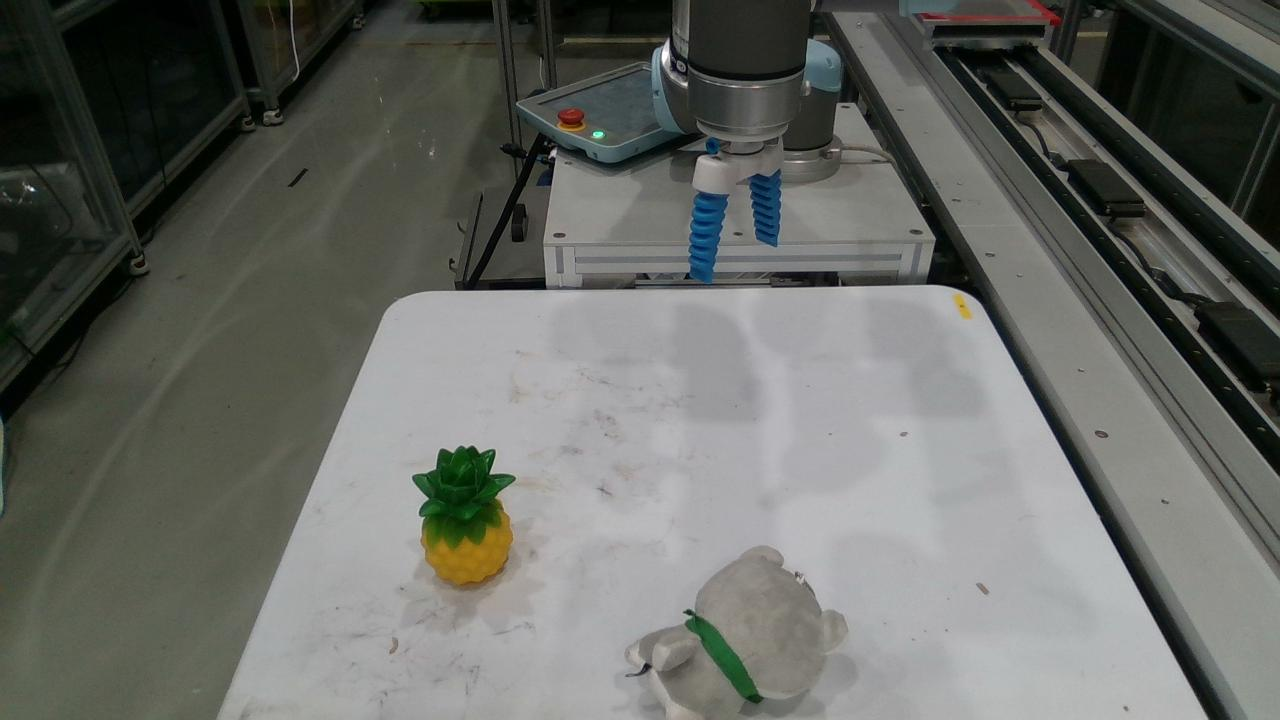UR5: (654, 4, 840, 192)
gripper_left: (690, 192, 726, 280)
gripper_right: (750, 170, 780, 244)
target: (628, 547, 846, 719), (414, 447, 510, 584)
